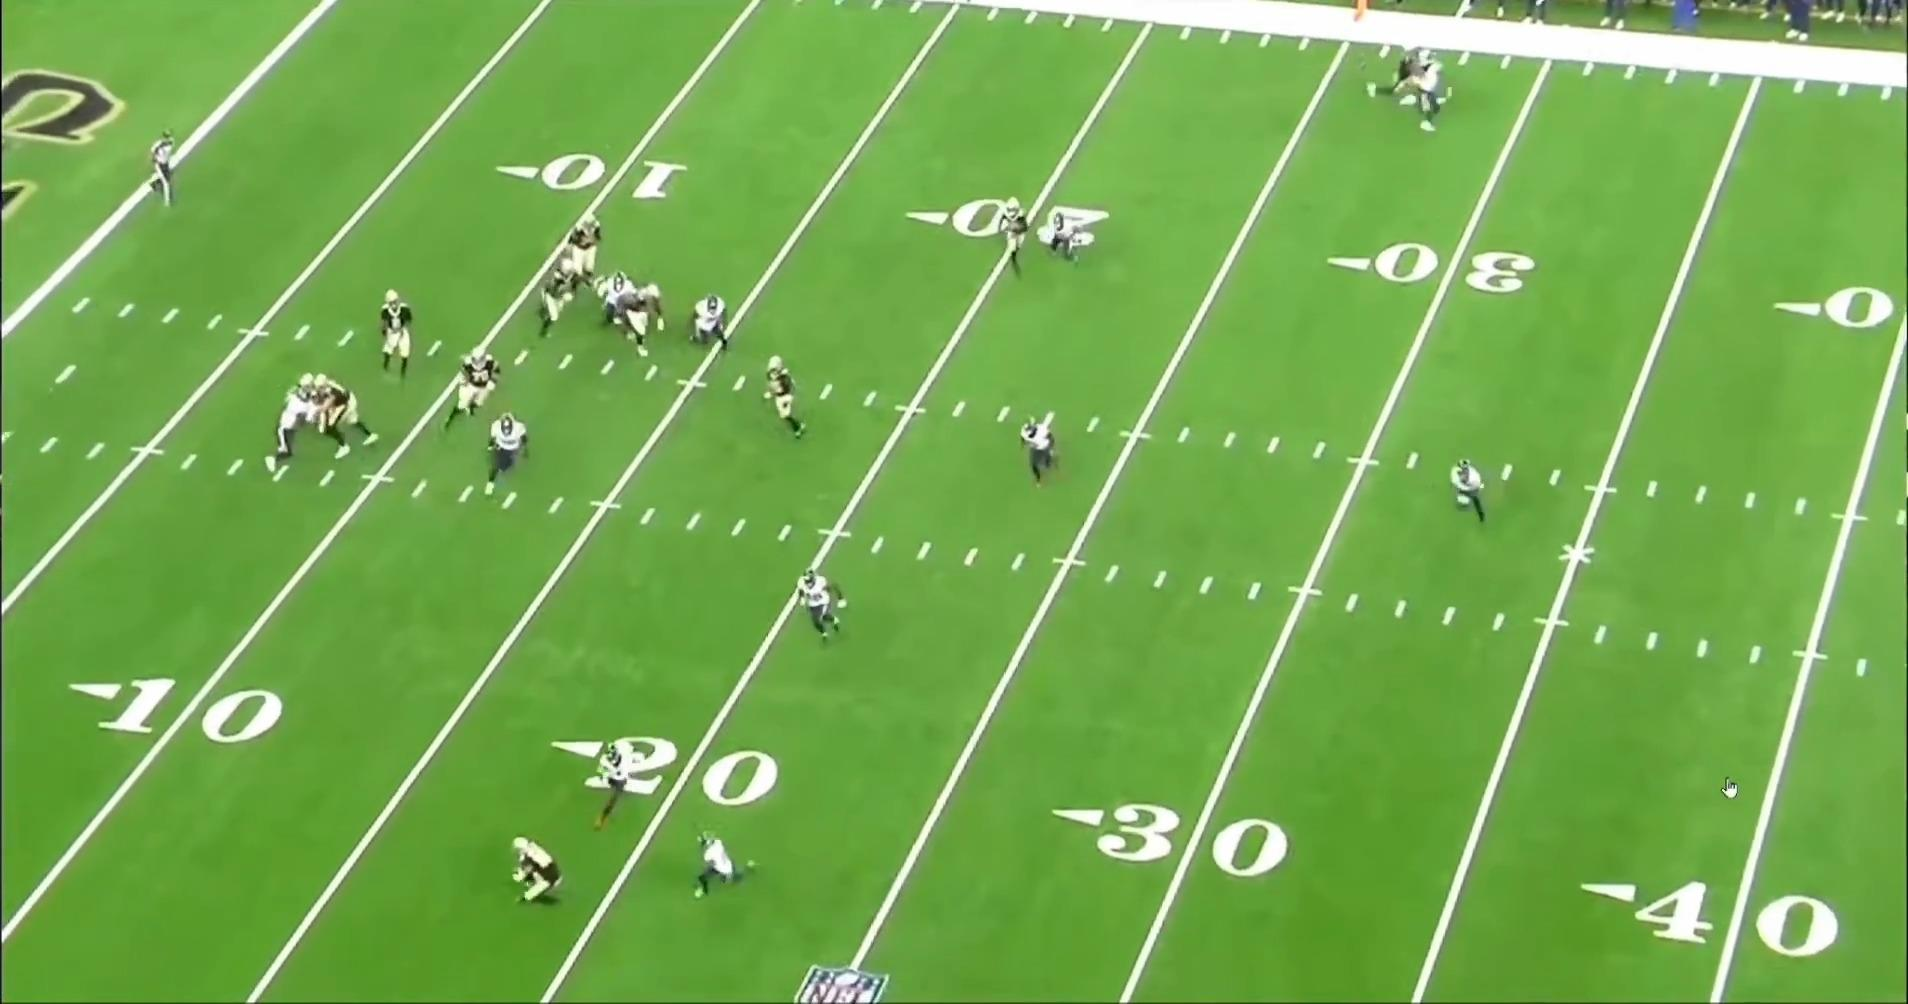defense: (268, 375, 328, 474), (487, 410, 541, 497), (689, 830, 751, 902), (799, 565, 856, 642), (592, 740, 639, 830), (1406, 53, 1449, 135), (591, 267, 646, 329), (690, 291, 742, 356), (1017, 420, 1061, 494), (1449, 458, 1493, 528), (1045, 212, 1088, 270)
oline: (312, 370, 384, 463), (598, 279, 669, 359), (439, 347, 503, 435), (534, 256, 584, 341), (550, 216, 602, 296)
qb: (381, 288, 424, 382)
ref: (148, 126, 188, 214)
skill: (1363, 44, 1436, 106), (510, 834, 568, 911), (756, 353, 804, 443), (992, 190, 1027, 277), (302, 368, 336, 441)
